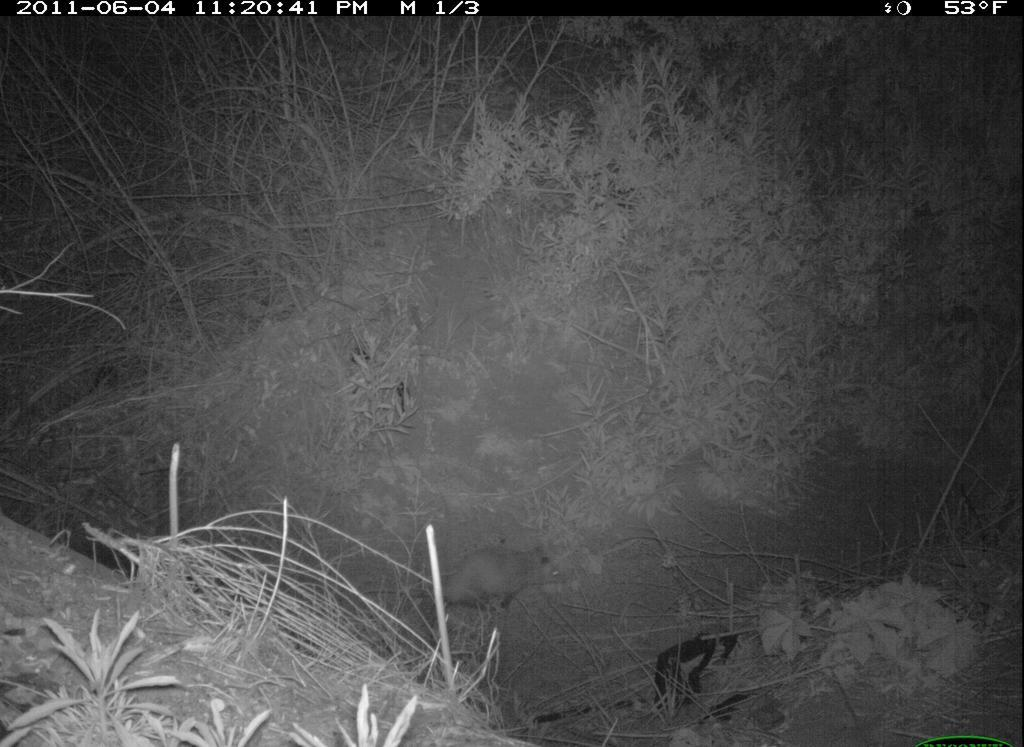opossum: (346, 538, 583, 629)
